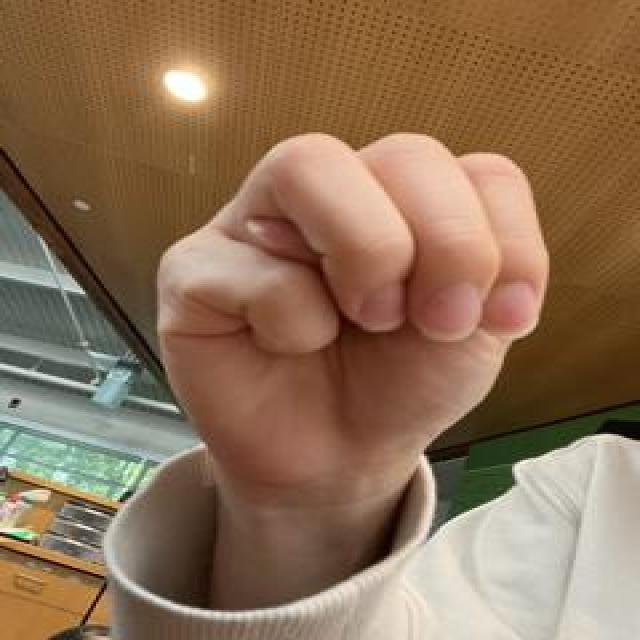M: (146, 125, 554, 503)
